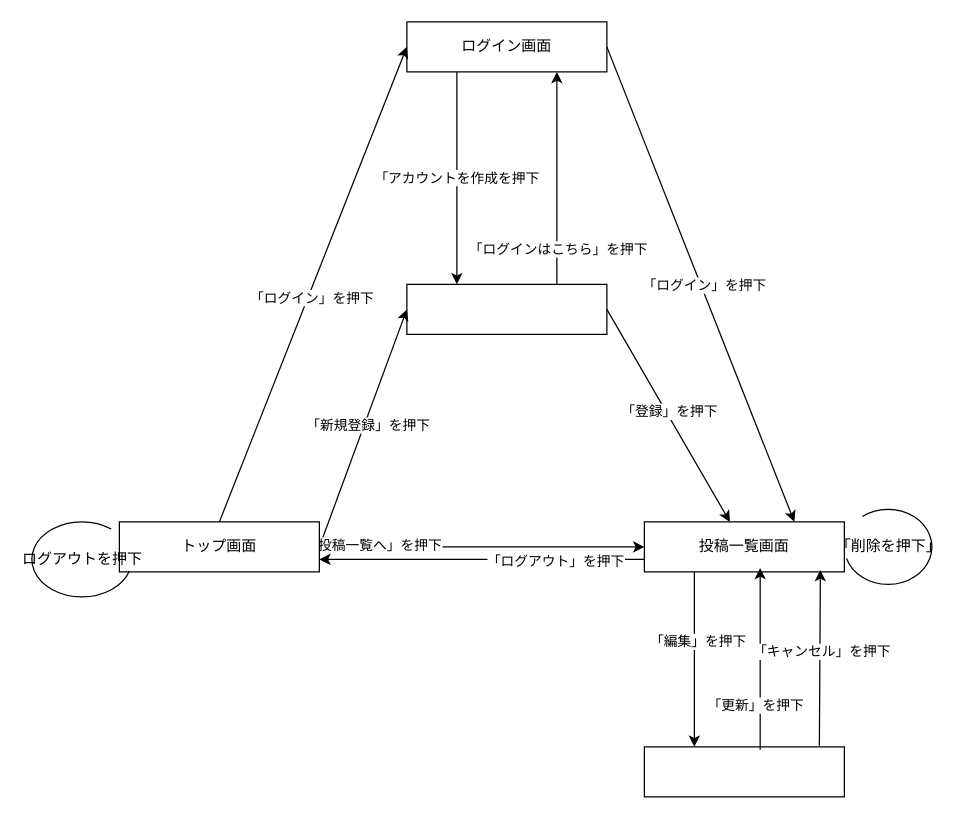
This 961x819 diagram has some shape labels left out. The shapes that lost their labels are listed below. From the top down, each one's box as (x1, y1, x2, y2) in pixels, then its label:
(406, 283, 607, 334): ユーザー登録画面
(643, 746, 844, 797): 投稿編集画面
